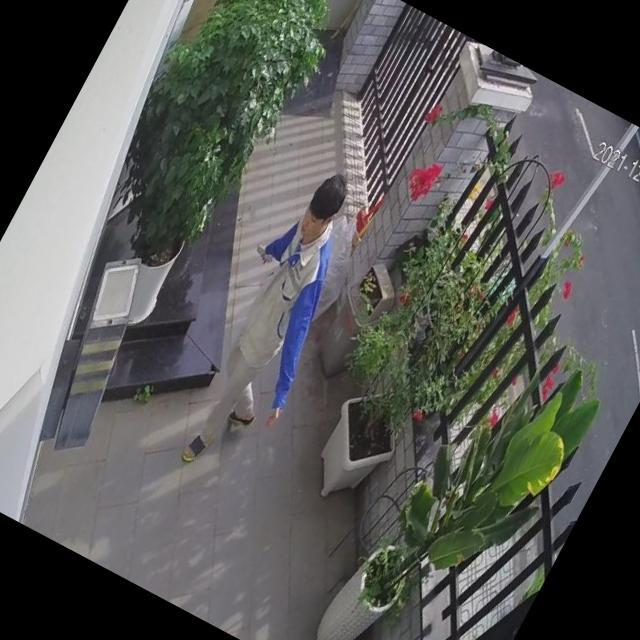person: (156, 160, 392, 490)
